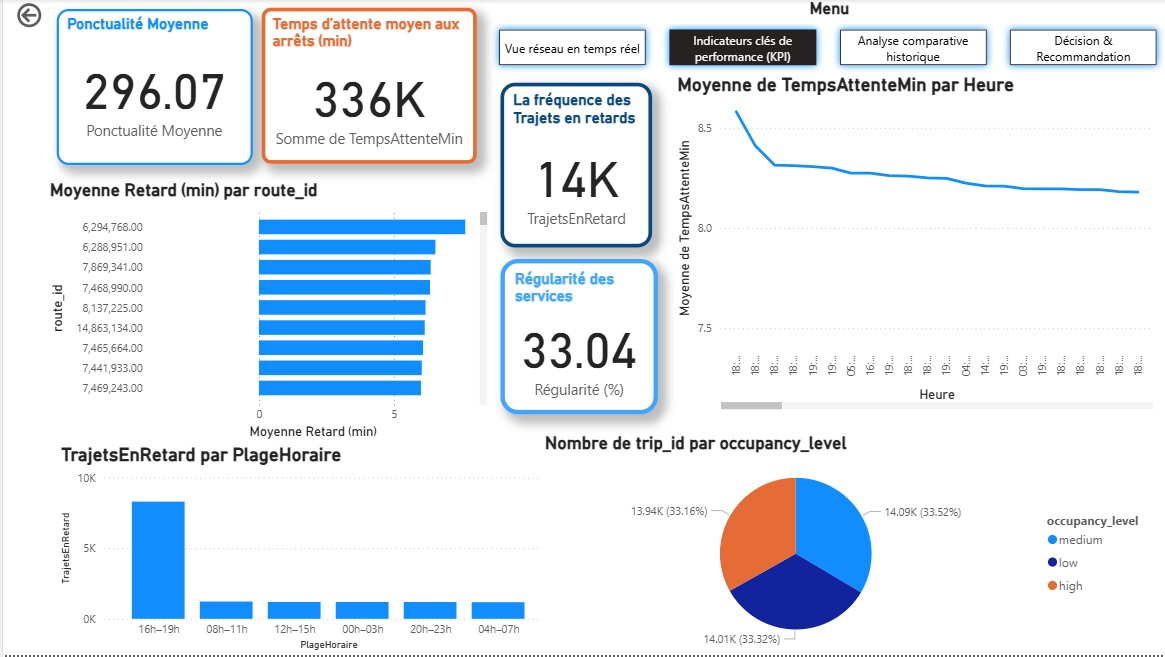

Layout of this report page (visuals, bound fields, positions):
{"tool":"powerbi","page":{"name":"Indicateurs clés de performance (KPI)","canvas":[1280,720],"ordinal":1},"visuals":[{"type":"clusteredBarChart","fields":{"Category":["Route.route_id"],"Y":["Trips.Moyenne Retard (min)"]},"box":[46.7,199,489.9,289.5],"z":0},{"type":"lineChart","fields":{"Y":["Avg(Trips.TempsAttenteMin)"],"Category":["Trips.Heure"]},"box":[735.5,82.3,532.4,373.2],"z":1000},{"type":"columnChart","fields":{"Y":["Trips.TrajetsEnRetard"],"Category":["Trips.PlageHoraire"]},"box":[59,488.5,550.3,231.9],"z":2000},{"type":"pieChart","fields":{"Category":["Trips.occupancy_level"],"Y":["CountNonNull(Trips.trip_id)"]},"box":[590.1,476.2,677.9,244.3],"z":3000},{"type":"pageNavigator","title":"Menu","box":[536.7,0,741.7,81.7],"z":4000},{"type":"actionButton","box":[11,0,35.7,35.7],"z":5000},{"type":"card","title":"Ponctualité Moyenne","fields":{"Values":["Trips.Ponctualité Moyenne"]},"box":[59,11,215.4,171.5],"z":6000},{"type":"card","title":"Temps d’attente moyen aux arrêts (min)","fields":{"Values":["Sum(Trips.TempsAttenteMin)"]},"box":[284,9.6,236,171.5],"z":7000},{"type":"card","title":"La fréquence des  Trajets en retards ","fields":{"Values":["Trips.TrajetsEnRetard"]},"box":[546.1,91.9,166,181.1],"z":8000},{"type":"card","title":"Régularité des services","fields":{"Values":["Trips.Régularité (%)"]},"box":[546.1,285.4,172.9,170.2],"z":9000}]}

Visuals, with their boxes in screenshot pixels (x1, y1, x2, y2), scaled from the page's 1280x720 canvas onto the 1165x657 screenshot:
clusteredBarChart - Route.route_id x Trips.Moyenne Retard (min): (43, 182, 488, 446)
lineChart - Avg(Trips.TempsAttenteMin) x Trips.Heure: (669, 75, 1154, 416)
columnChart - Trips.TrajetsEnRetard x Trips.PlageHoraire: (54, 446, 555, 656)
pieChart - Trips.occupancy_level x CountNonNull(Trips.trip_id): (537, 435, 1154, 656)
"Menu" pageNavigator: (488, 0, 1164, 75)
actionButton: (10, 0, 43, 33)
"Ponctualité Moyenne" card: (54, 10, 250, 167)
"Temps d’attente moyen aux arrêts (min)" card: (258, 9, 473, 165)
"La fréquence des  Trajets en retards " card: (497, 84, 648, 249)
"Régularité des services" card: (497, 260, 654, 416)
